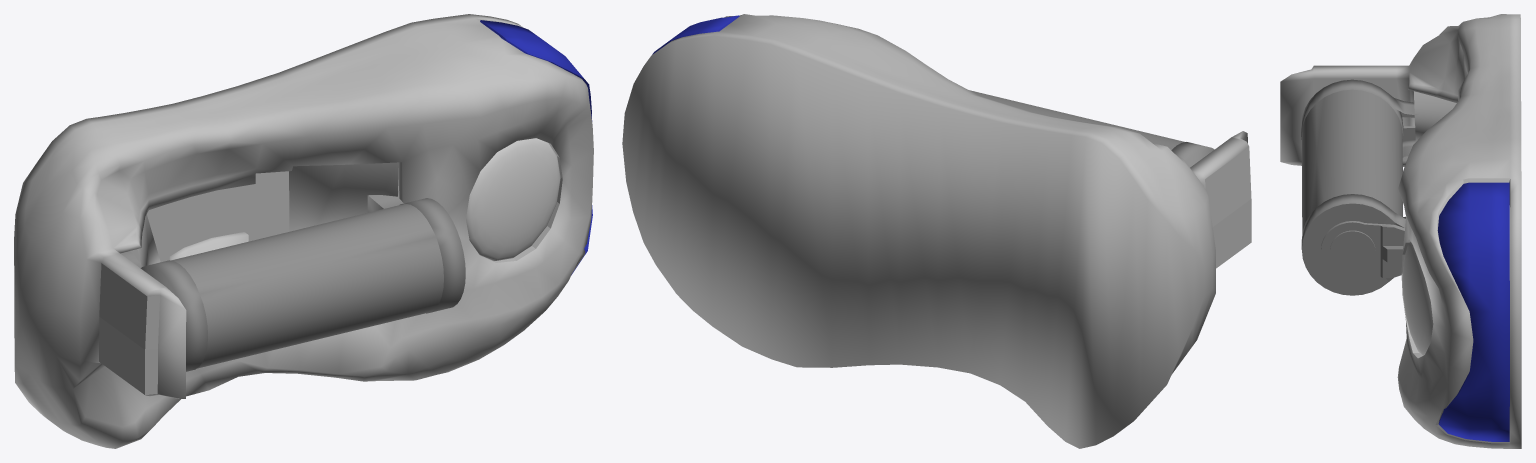
File: RAnkleRoll.dae
3 views of the same model, side by side, from view 1: azimuth 30°, elevation 25°; view 2: azimuth 150°, elevation 25°; view 3: azimuth 270°, elevation 25° (orthographic). The views are drawn at different scales.
Visible parts, largest first — view 1: root_018; view 2: root_018; view 3: root_018.
Part boxes in pixels (left/top/right/bottom): root_018: left=14, top=14, right=593, bottom=448; root_018: left=622, top=14, right=1251, bottom=448; root_018: left=1280, top=14, right=1521, bottom=448.
Size of the model in its own units: 160 by 64.67 by 90.49.
